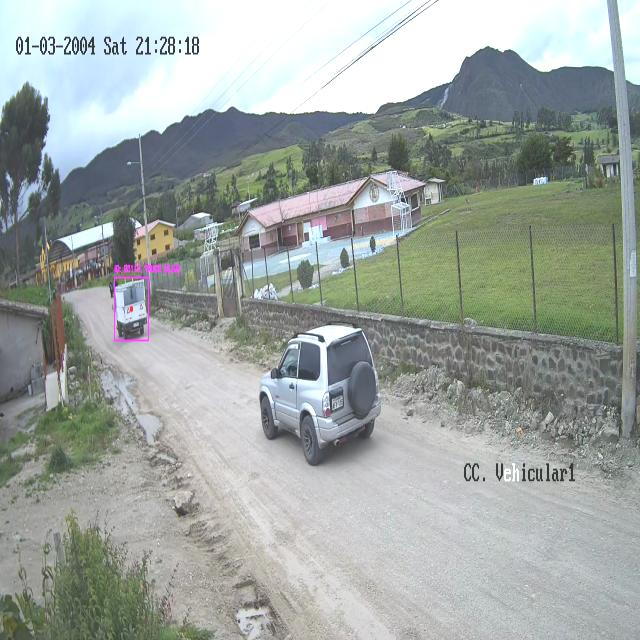SUV: (258, 324, 381, 468)
